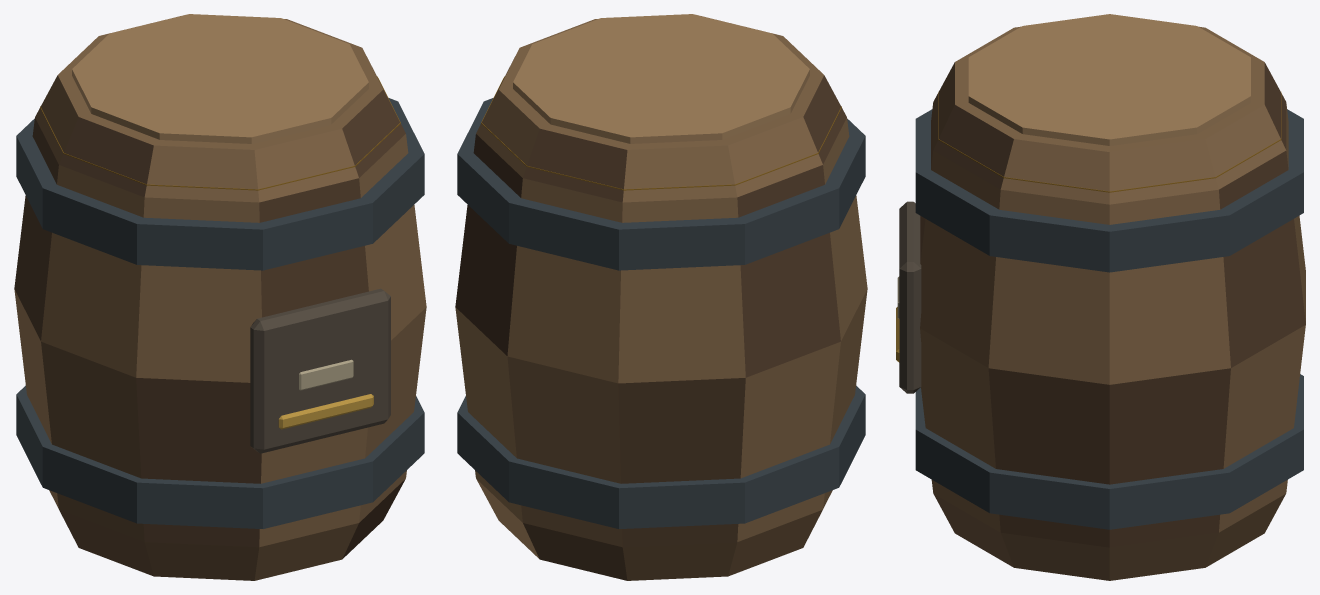
File: aged_stout_barrel.glb
3 views of the same model, side by side, from view 1: azimuth 30°, elevation 25°; view 2: azimuth 150°, elevation 25°; view 3: azimuth 270°, elevation 25° (orthographic).
Visible parts, largest first — view 1: aged_stout_barrel; view 2: aged_stout_barrel; view 3: aged_stout_barrel.
Boxes of the visible parts, <box> form: aged_stout_barrel: <box>14,14,426,580</box>; aged_stout_barrel: <box>455,14,867,580</box>; aged_stout_barrel: <box>896,14,1305,580</box>.
Size of the model in its own units: 0.68 by 0.792 by 0.6757.
